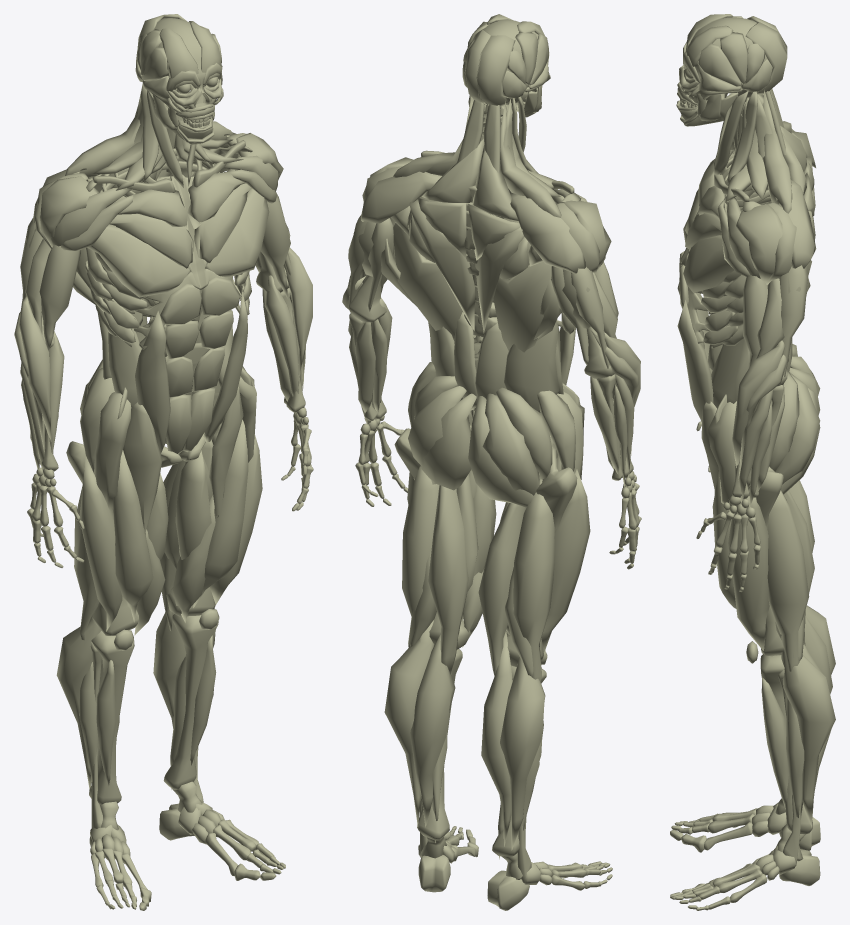
File: man.fbx
3 renders of one model, left to right at view 1: azimuth 30°, elevation 25°; view 2: azimuth 150°, elevation 25°; view 3: azimuth 270°, elevation 25°, orthographic.
Visible parts, largest first — view 1: 肌肉95, 肌肉37, 肌肉97, 肌肉163, Box237, 肌肉49, 肌肉114, 肌肉118, 肌肉161, 肌肉112, 肌肉102, 肌肉51 (+60 smaller); view 2: 肌肉99, 肌肉166, 肌肉102, 肌肉171, 肌肉98, 肌肉97, 肌肉154, 肌肉73, 肌肉170, 肌肉167, 肌肉103, 肌肉84 (+59 smaller); view 3: 肌肉167, 肌肉170, 肌肉165, 肌肉140, 肌肉175, 肌肉134, 肌肉118, 肌肉173, 肌肉146, 肌肉180, 肌肉186, 肌肉135 (+57 smaller).
Part boxes in pixels (x1,y1,x2,y2): 肌肉95: [113, 450, 153, 622]; 肌肉37: [87, 224, 190, 297]; 肌肉97: [79, 455, 122, 631]; 肌肉163: [193, 419, 248, 607]; Box237: [163, 614, 218, 789]; 肌肉49: [135, 311, 170, 453]; 肌肉114: [123, 402, 162, 534]; 肌肉118: [205, 188, 269, 277]; 肌肉161: [175, 450, 211, 559]; 肌肉112: [94, 392, 131, 512]; 肌肉102: [56, 617, 101, 788]; 肌肉51: [39, 244, 80, 350]; 肌肉99: [513, 479, 554, 682]; 肌肉166: [428, 485, 468, 675]; 肌肉102: [500, 657, 545, 850]; 肌肉171: [410, 633, 455, 827]; 肌肉98: [478, 503, 526, 675]; 肌肉97: [541, 469, 590, 652]; 肌肉154: [393, 223, 463, 340]; 肌肉73: [493, 261, 551, 352]; 肌肉170: [384, 620, 433, 826]; 肌肉167: [402, 466, 439, 648]; 肌肉103: [481, 630, 512, 846]; 肌肉84: [509, 192, 585, 273]; 肌肉167: [767, 490, 809, 671]; 肌肉170: [781, 651, 835, 827]; 肌肉165: [728, 496, 769, 650]; 肌肉140: [735, 204, 782, 282]; 肌肉175: [775, 372, 820, 484]; 肌肉134: [677, 300, 713, 421]; 肌肉118: [683, 235, 734, 292]; 肌肉173: [761, 677, 788, 809]; 肌肉146: [732, 340, 784, 467]; 肌肉180: [708, 401, 736, 510]; 肌肉186: [763, 90, 792, 213]; 肌肉135: [711, 338, 750, 408].
Size of what is drawn, in the model's own units: 398 by 1130 by 199.
